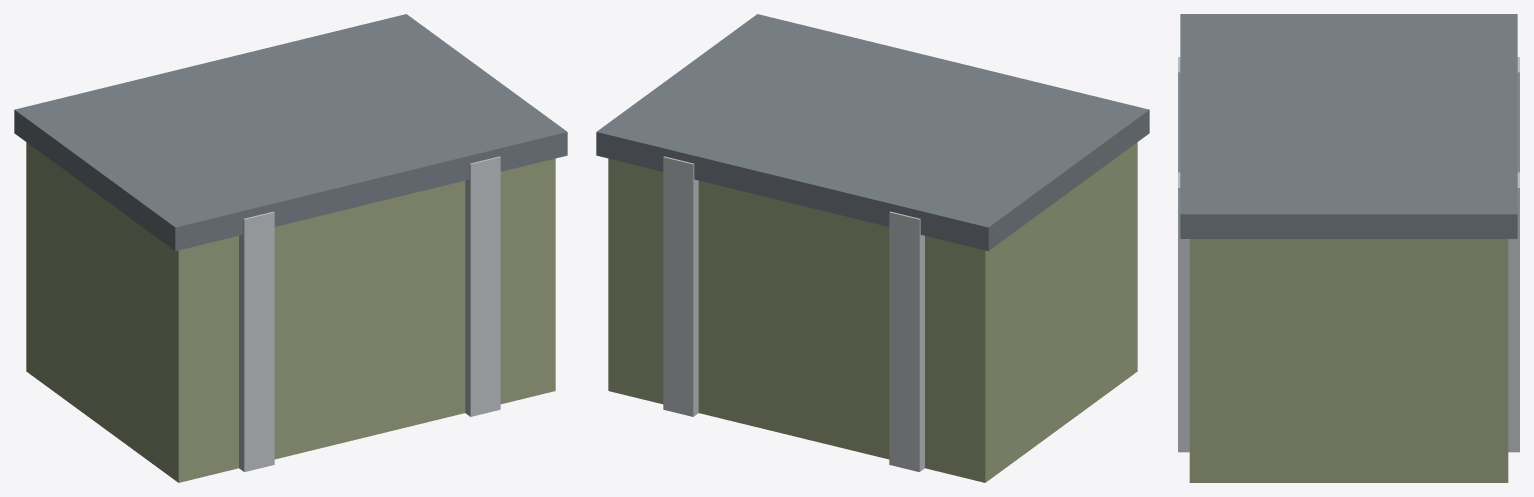
File: mech-hangar-and-battle-frames-ammo-crate-89977316__26959.glb
The picture shows the model from 3 angles, left to right: view 1: azimuth 30°, elevation 25°; view 2: azimuth 150°, elevation 25°; view 3: azimuth 270°, elevation 25°; orthographic projection. The views are drawn at different scales.
Visible parts, largest first — view 1: ammo-crate; view 2: ammo-crate; view 3: ammo-crate.
Boxes of the visible parts, box(x1,y1,x2,y2) form: ammo-crate: box(14, 14, 567, 482); ammo-crate: box(596, 14, 1149, 482); ammo-crate: box(1178, 14, 1519, 482).
Size of the model in its own units: 1.04 by 0.6601 by 0.75.
